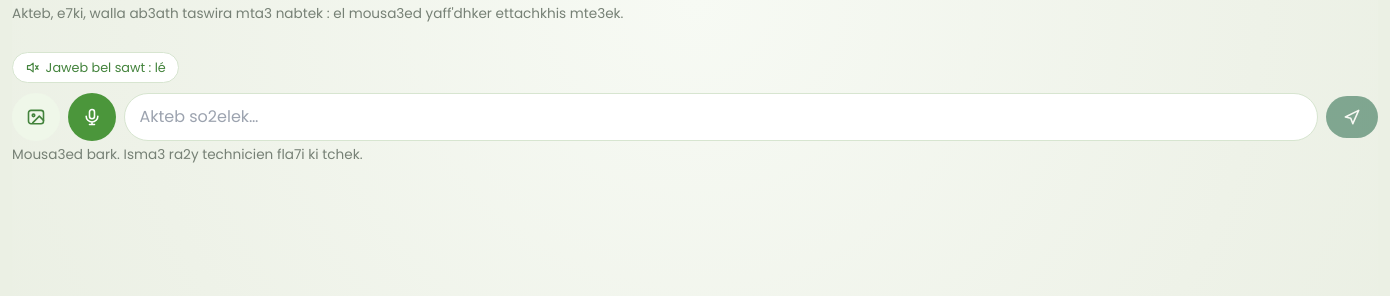
it: la conversation est enregistrée, sans l'audio
Type "3andi mochkla" into the field with placeholder "Akteb so2elek…". click: [721, 117]
box: [124,93,1318,141]
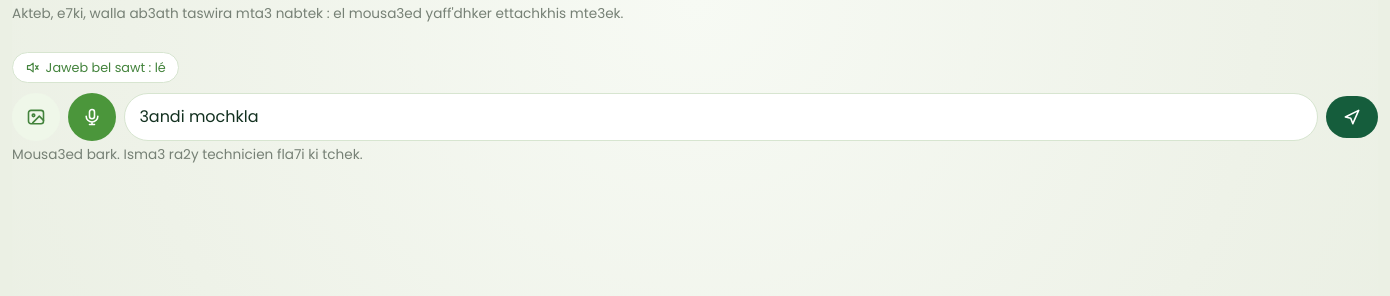
Submit the form with placeholder "Akteb so2elek…", box [12,93,1378,141]
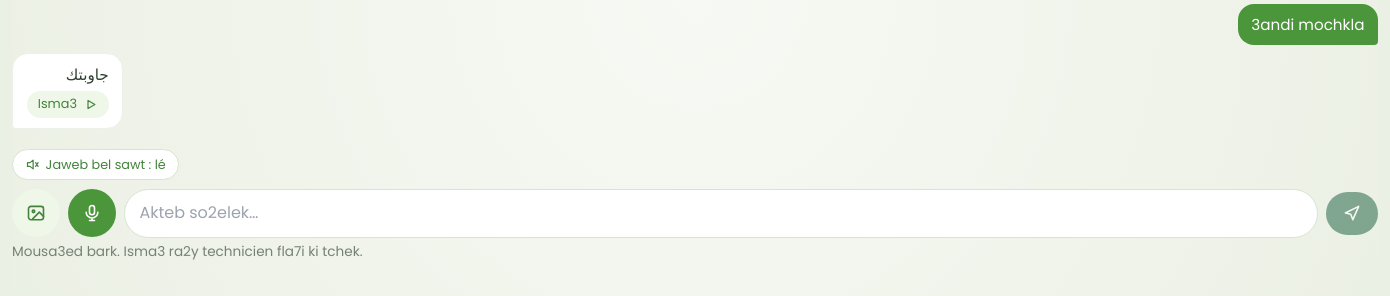
Result: the text "3andi mochkla" is shown at [1251,14,1364,36]
